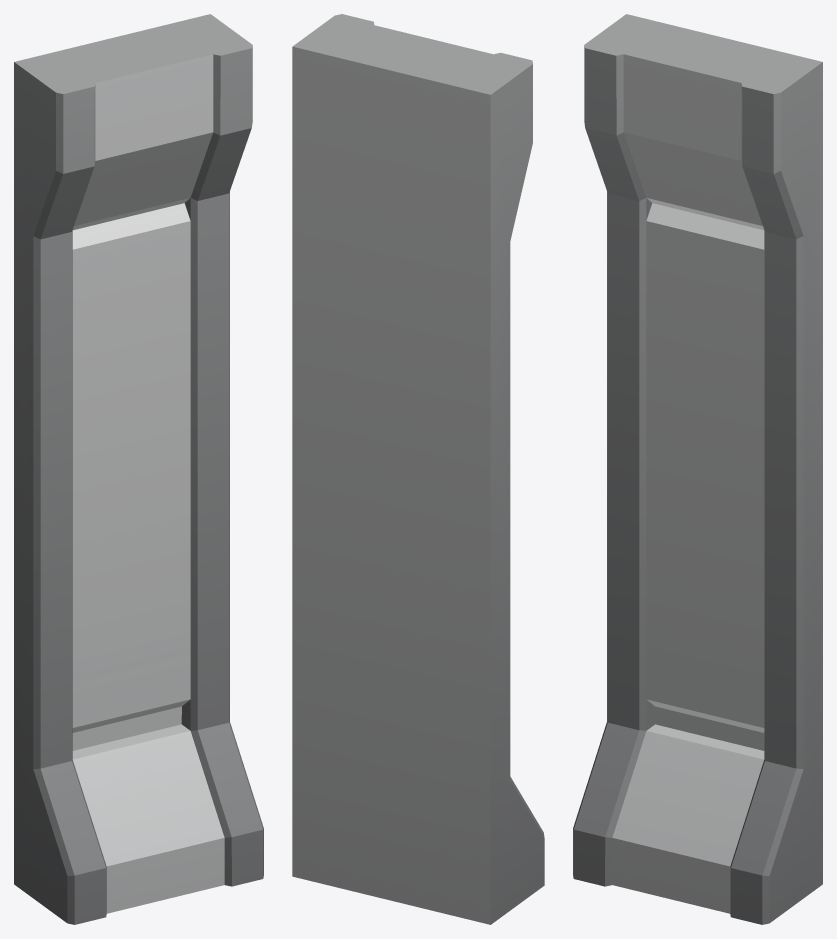
File: wall_t_junction.glb
3 views of the same model, side by side, from view 1: azimuth 30°, elevation 25°; view 2: azimuth 150°, elevation 25°; view 3: azimuth 330°, elevation 25° (orthographic).
Visible parts, largest first — view 1: Wall_type_A_005; view 2: Wall_type_A_005; view 3: Wall_type_A_005.
Boxes of the visible parts, bbox=[...] form: Wall_type_A_005: bbox=[14, 14, 263, 924]; Wall_type_A_005: bbox=[292, 14, 544, 924]; Wall_type_A_005: bbox=[573, 14, 822, 924].
Bounding box in the file's own units: 1 × 4 × 0.5.
Materials: 1 (1 with a texture image).
